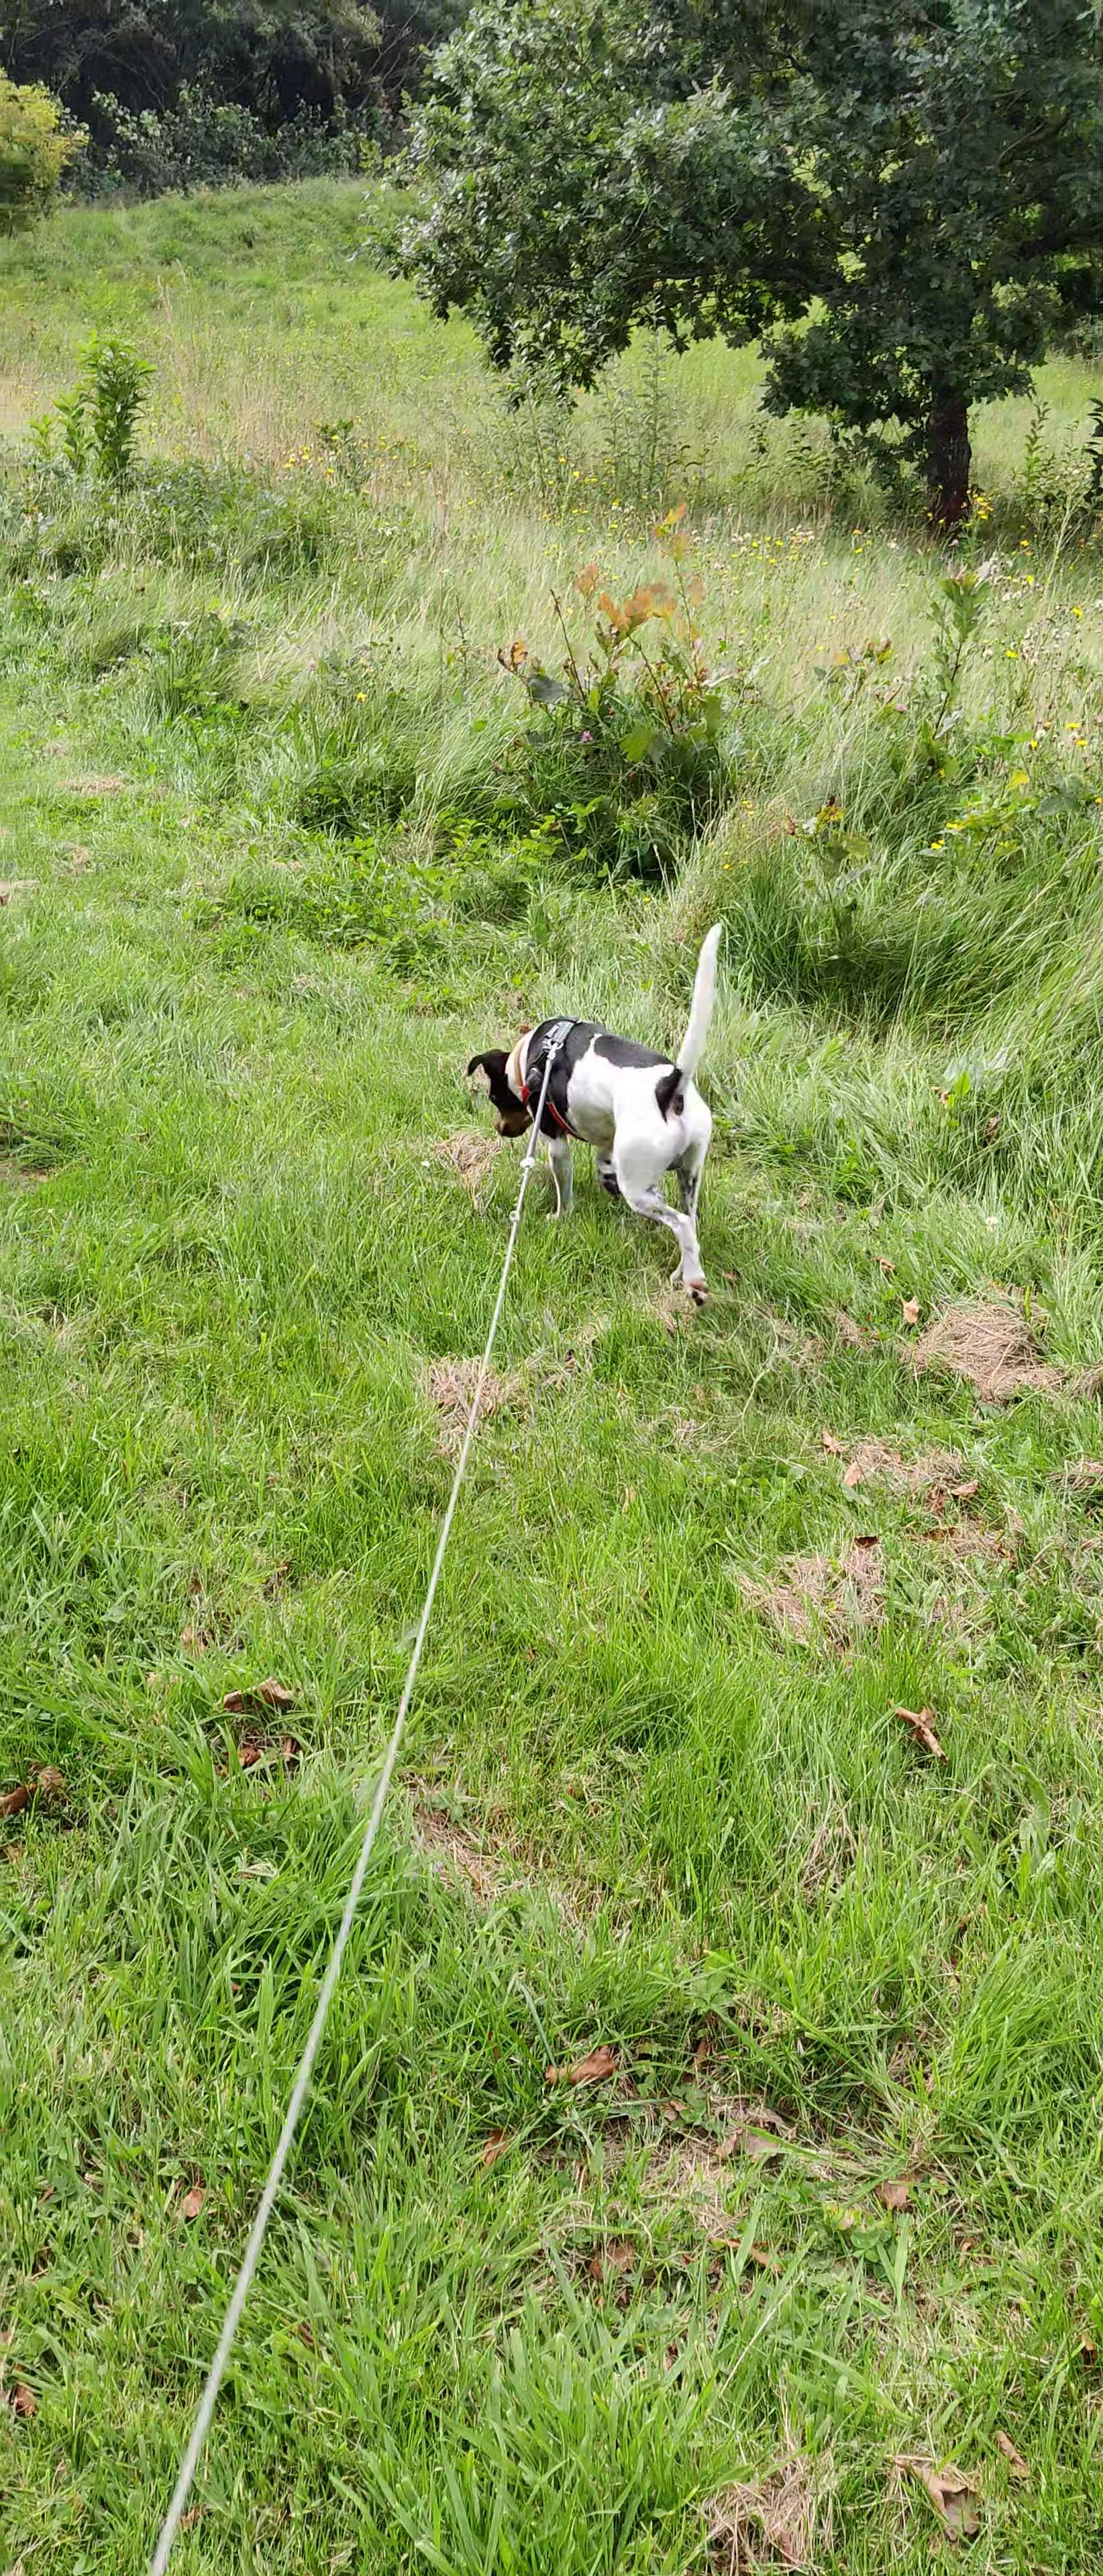Dog: (455, 907, 735, 1306)
